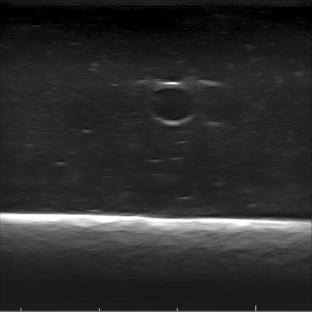vessel: (145, 82, 198, 126)
